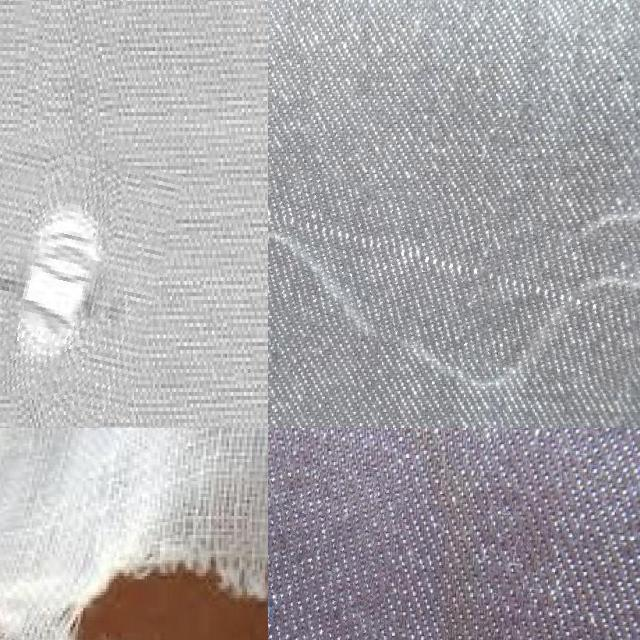other: (0, 143, 170, 411), (42, 521, 268, 640)
stains: (268, 147, 640, 360), (268, 447, 396, 640)
